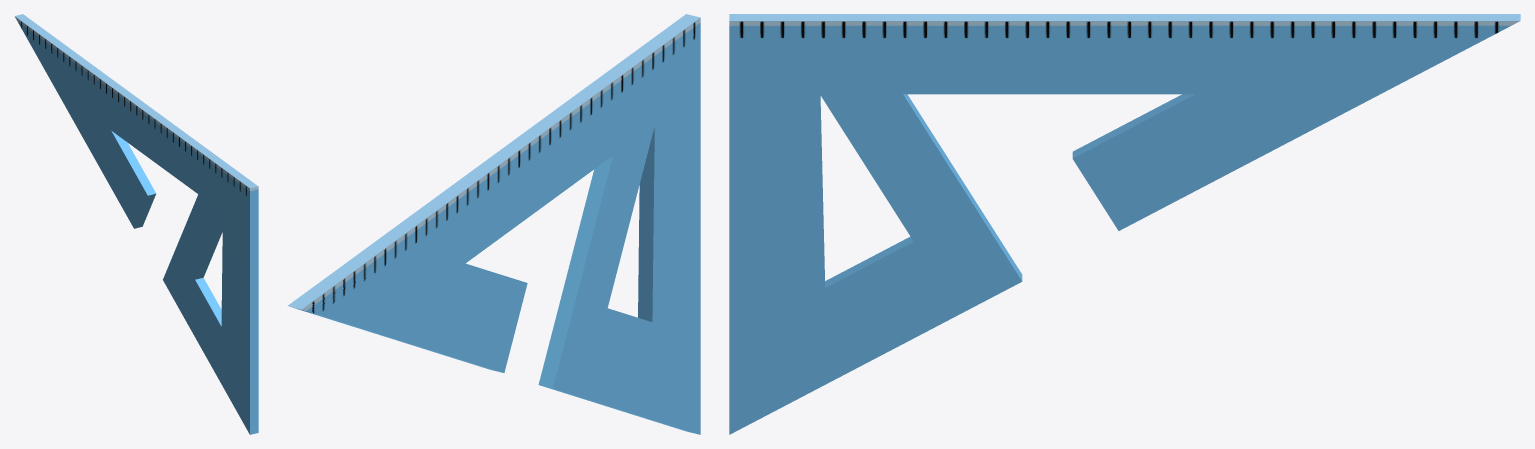
Rendered from jougi.fbx.
The picture shows the model from 3 angles, left to right: view 1: azimuth 30°, elevation 25°; view 2: azimuth 150°, elevation 25°; view 3: azimuth 270°, elevation 25°; orthographic projection. The views are drawn at different scales.
Visible parts, largest first — view 1: pCube6; view 2: pCube6; view 3: pCube6.
Boxes of the visible parts, <box> form: pCube6: <box>14,14,258,434</box>; pCube6: <box>288,14,700,434</box>; pCube6: <box>729,14,1520,434</box>.
Bounding box in the file's own units: 2.85 × 78.5 × 136.
Materials: 1 (1 with a texture image).
